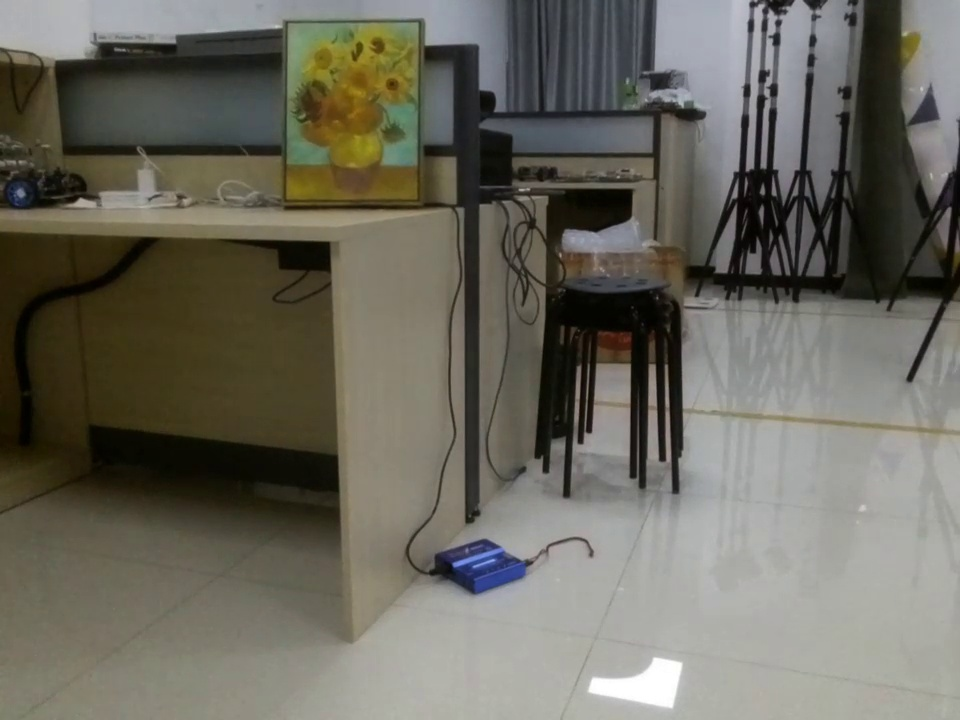painting: (282, 16, 438, 215)
